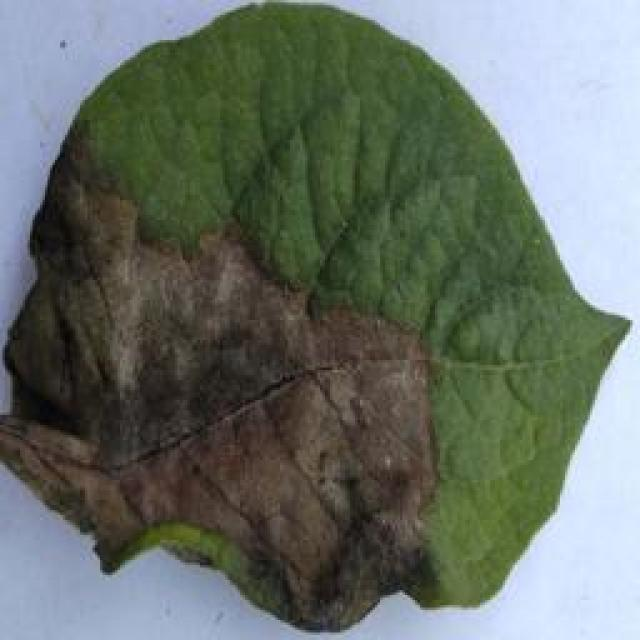Potato_Late_Blight: (0, 20, 625, 640)
